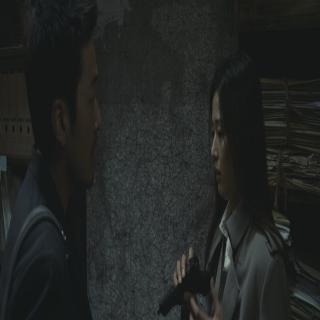gun: (155, 252, 214, 320)
